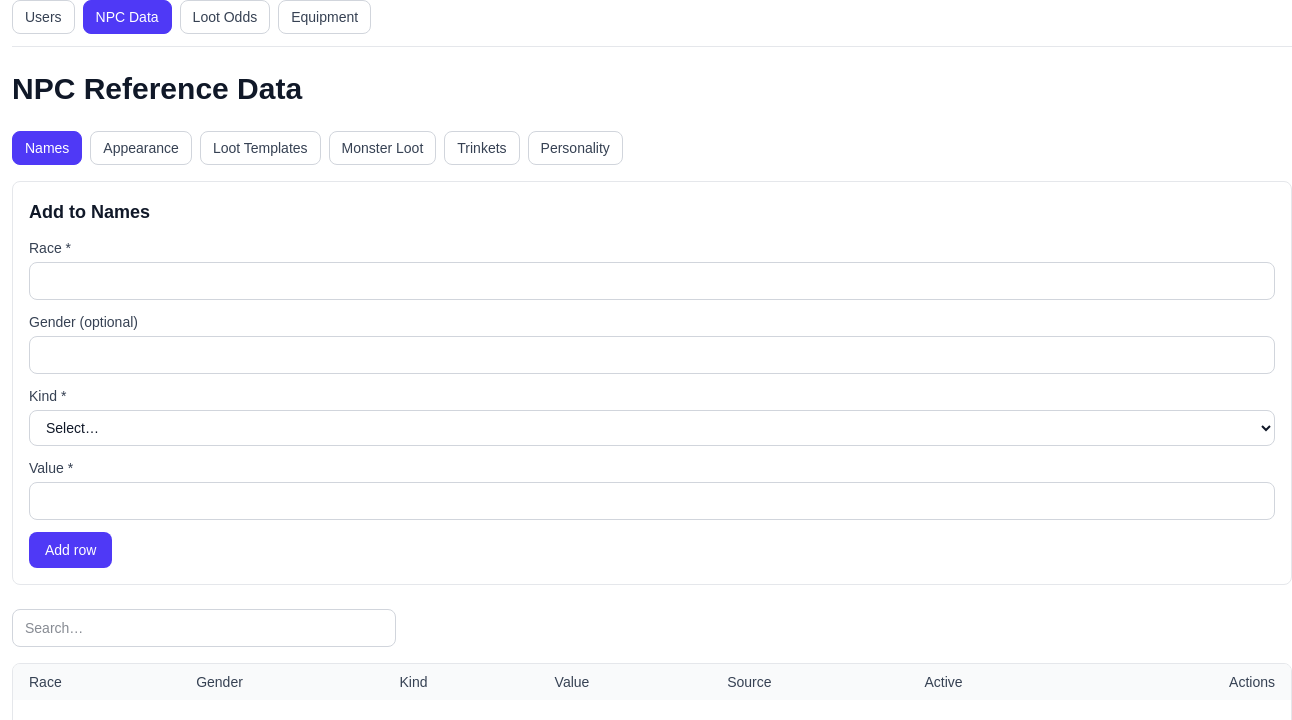
Test case: AdminNpcDataPage › loot templates tab › renders structured editors instead of JSON textareas
The image size is (1292, 720).
Step 1. Click the tab "Loot Templates" → [260, 148], box [200,131,321,165]
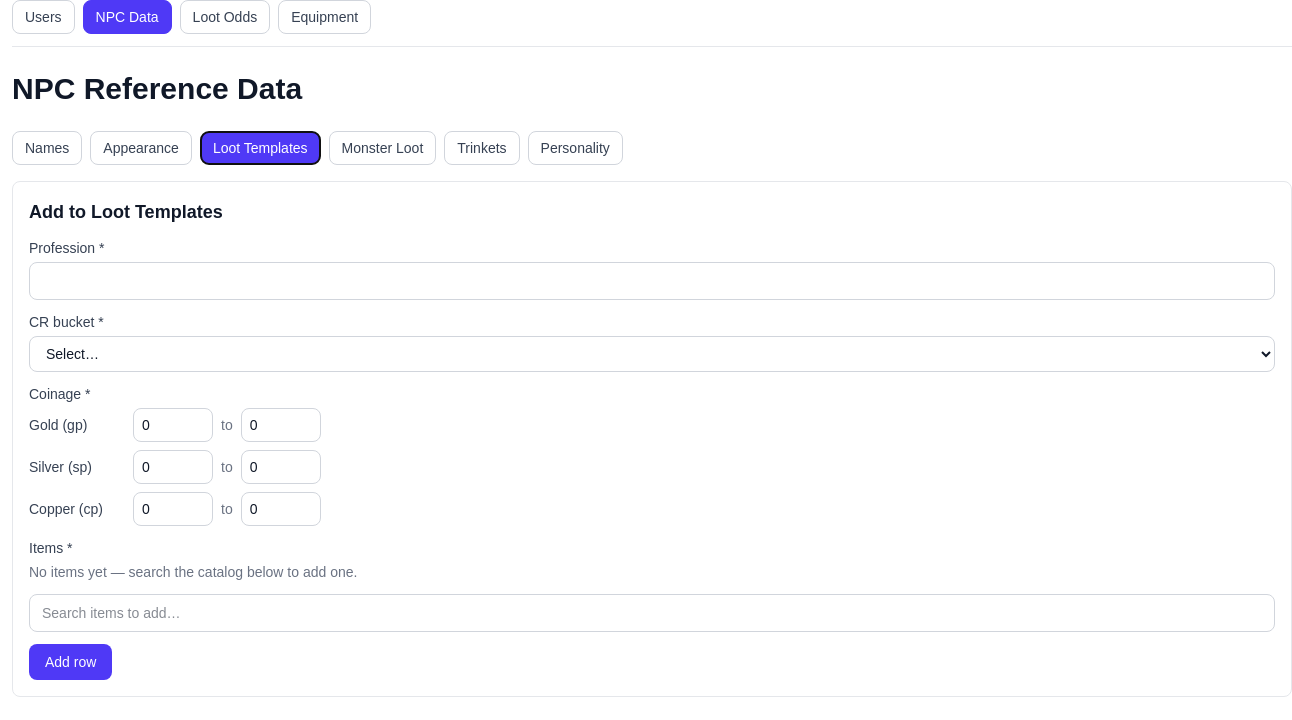
Now the number field named "gp min" is shown, box [133,408,213,442]
Now the number field named "sp max" is shown, box [241,450,321,484]
Now the field labelled "Search items to add…" is shown, box [29,594,1275,632]
